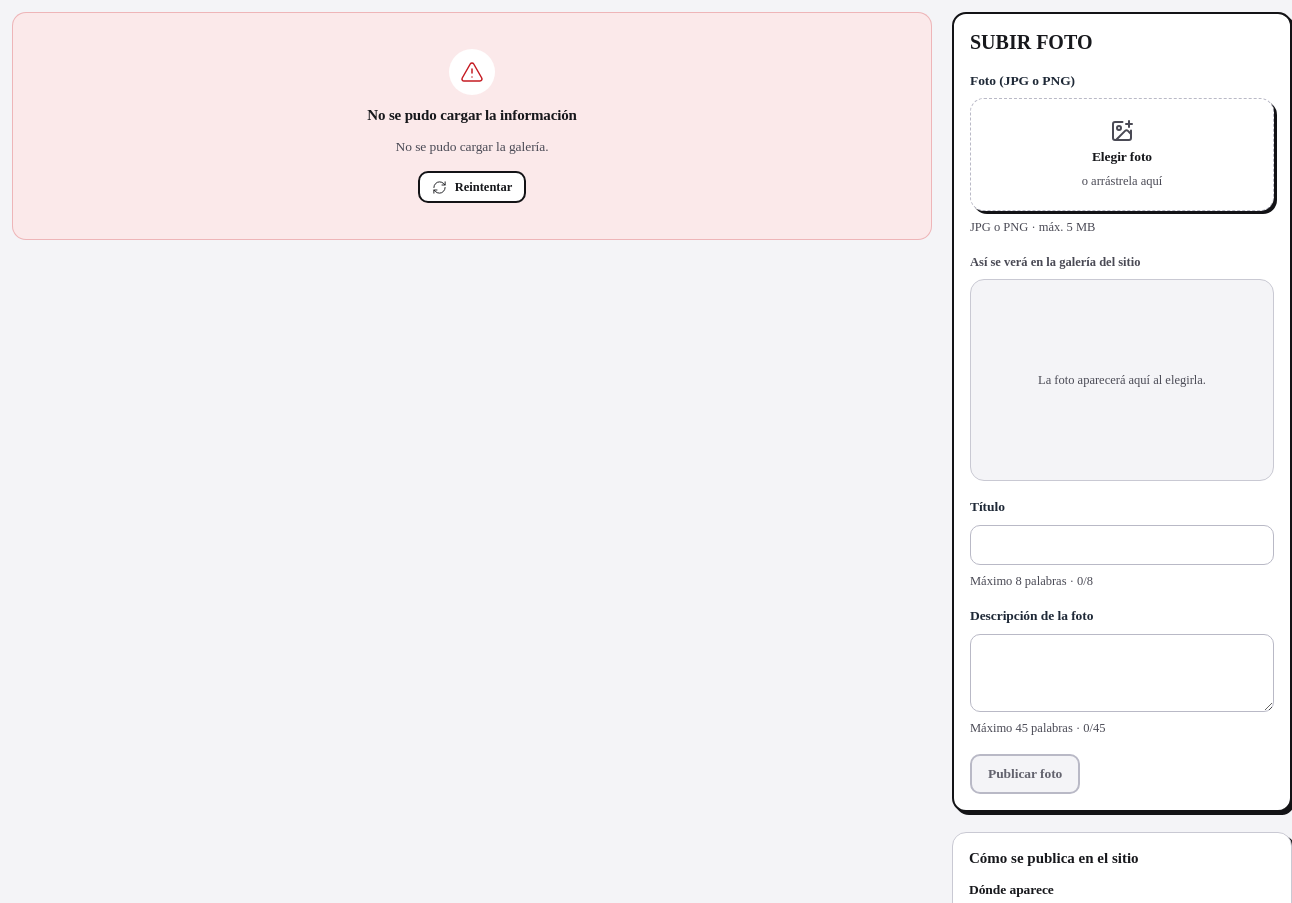
Test case: GaleriaPage › shows a retryable error state when the list fails to load
Expected: the message shows "No se pudo cargar la galería.", [396,139,548,154]
Click the button "Reintentar".
click(472, 187)  # box [418,171,526,203]
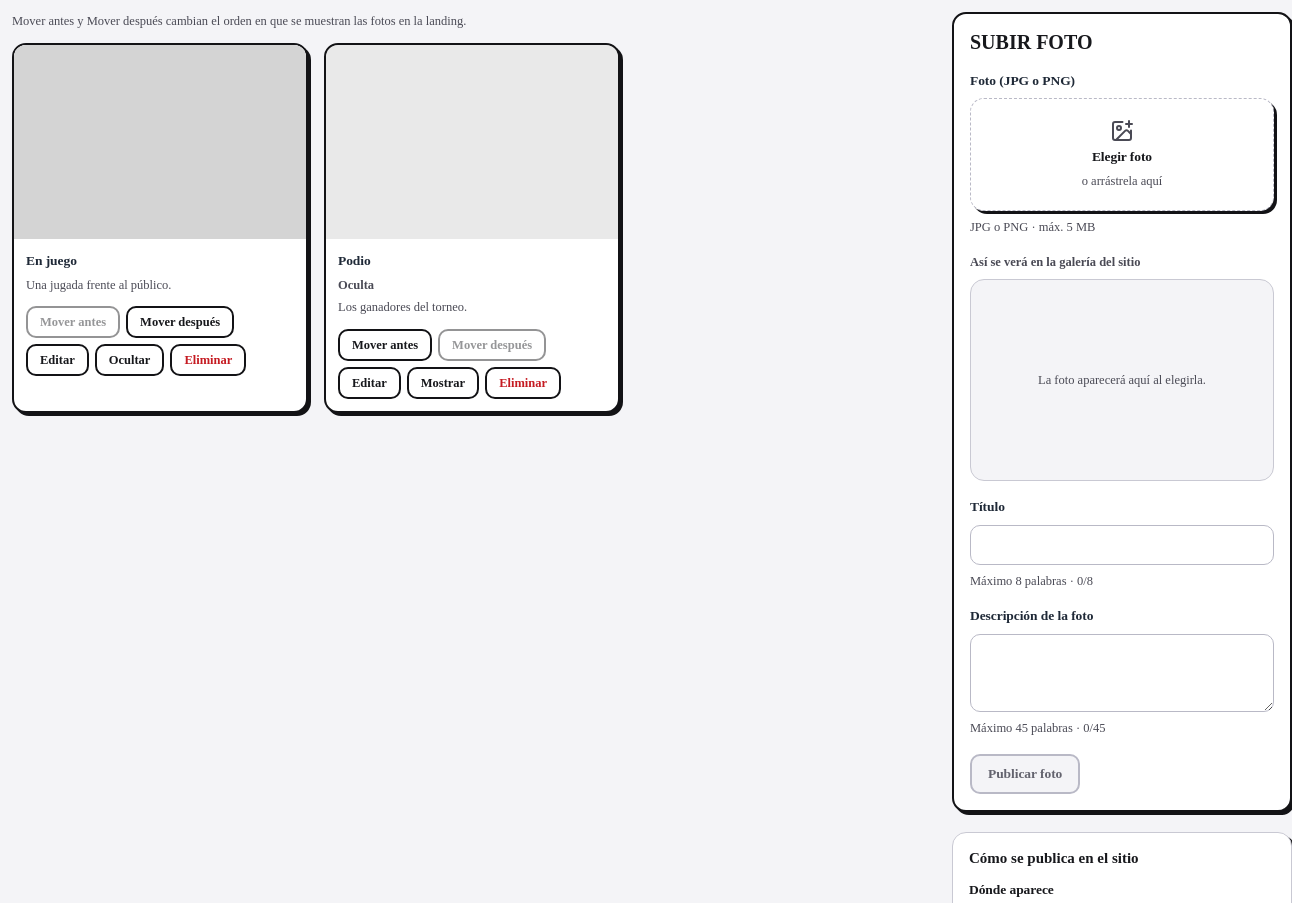
Expected: the text "En juego" is shown, [26,253,77,268]
